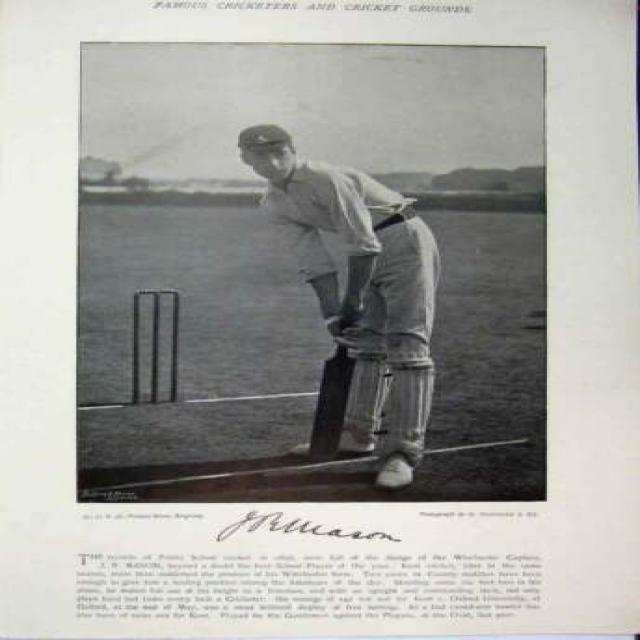stump: (128, 285, 183, 407)
